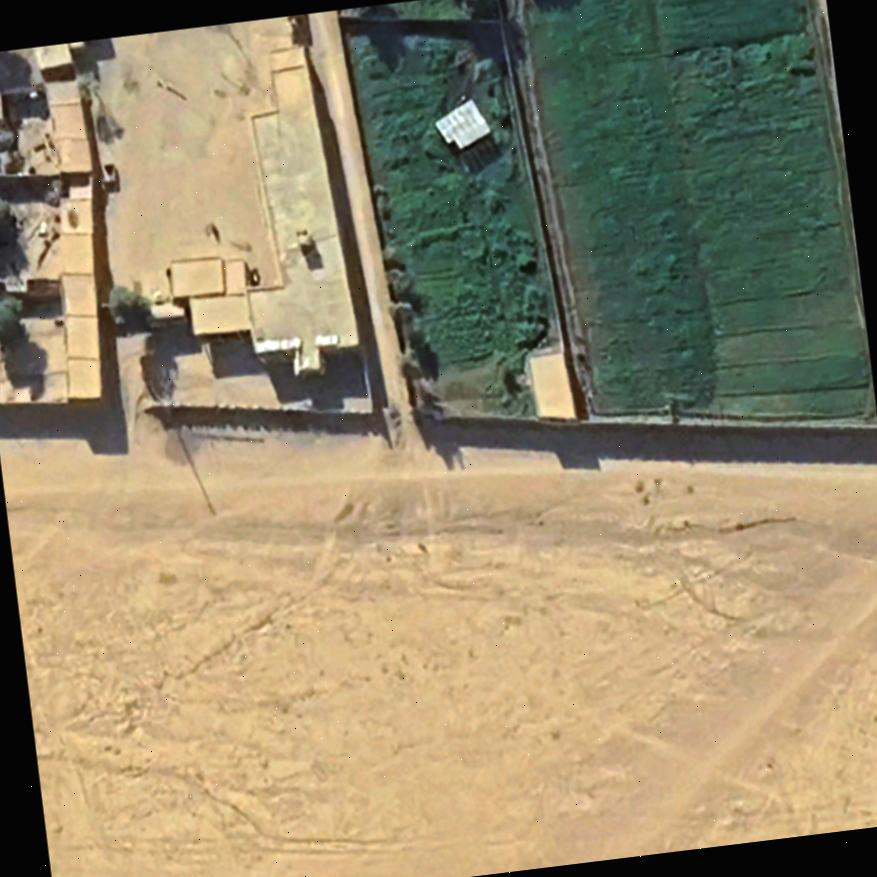Solarpanel: (429, 91, 497, 156), (249, 333, 302, 355), (309, 330, 338, 349)
